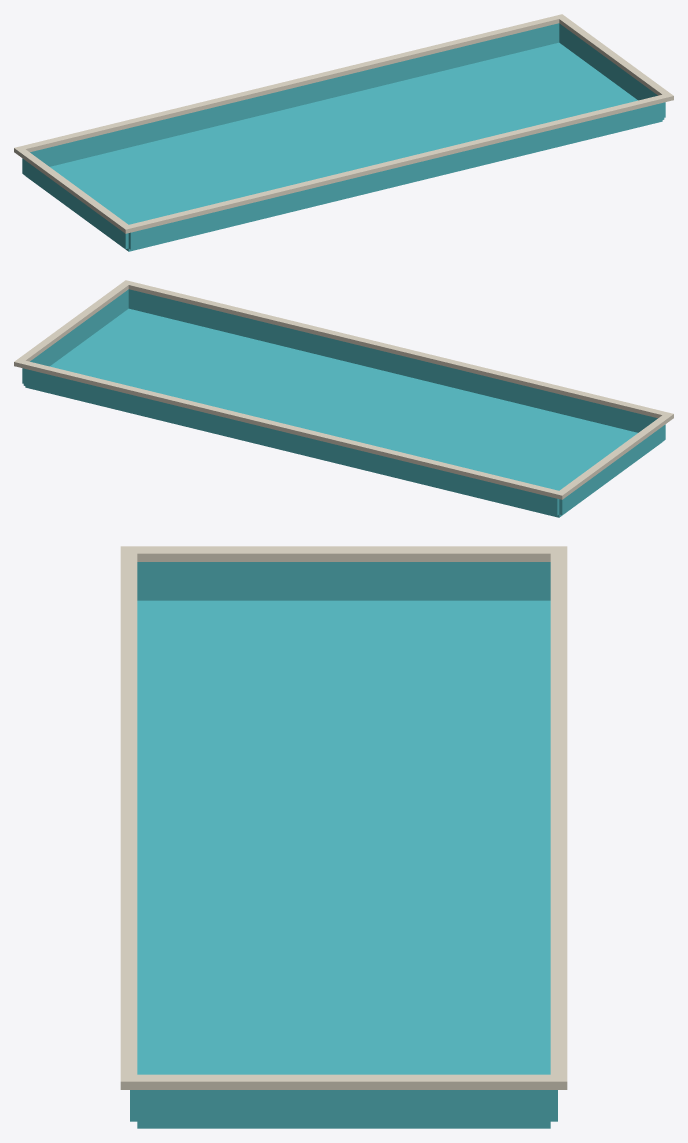
Rendered from E4-7_hotel_piscina.fbx.
The picture shows the model from 3 angles, top to bottom: view 1: azimuth 30°, elevation 25°; view 2: azimuth 150°, elevation 25°; view 3: azimuth 270°, elevation 25°; orthographic projection. The views are drawn at different scales.
Visible parts, largest first — view 1: E4-7_hotel_piscina; view 2: E4-7_hotel_piscina; view 3: E4-7_hotel_piscina.
Part boxes in pixels (x1,y1,x2,y2): E4-7_hotel_piscina: [14, 14, 673, 251]; E4-7_hotel_piscina: [14, 280, 673, 517]; E4-7_hotel_piscina: [120, 546, 567, 1128].
Size of the model in its own units: 34 by 1.6 by 12.
